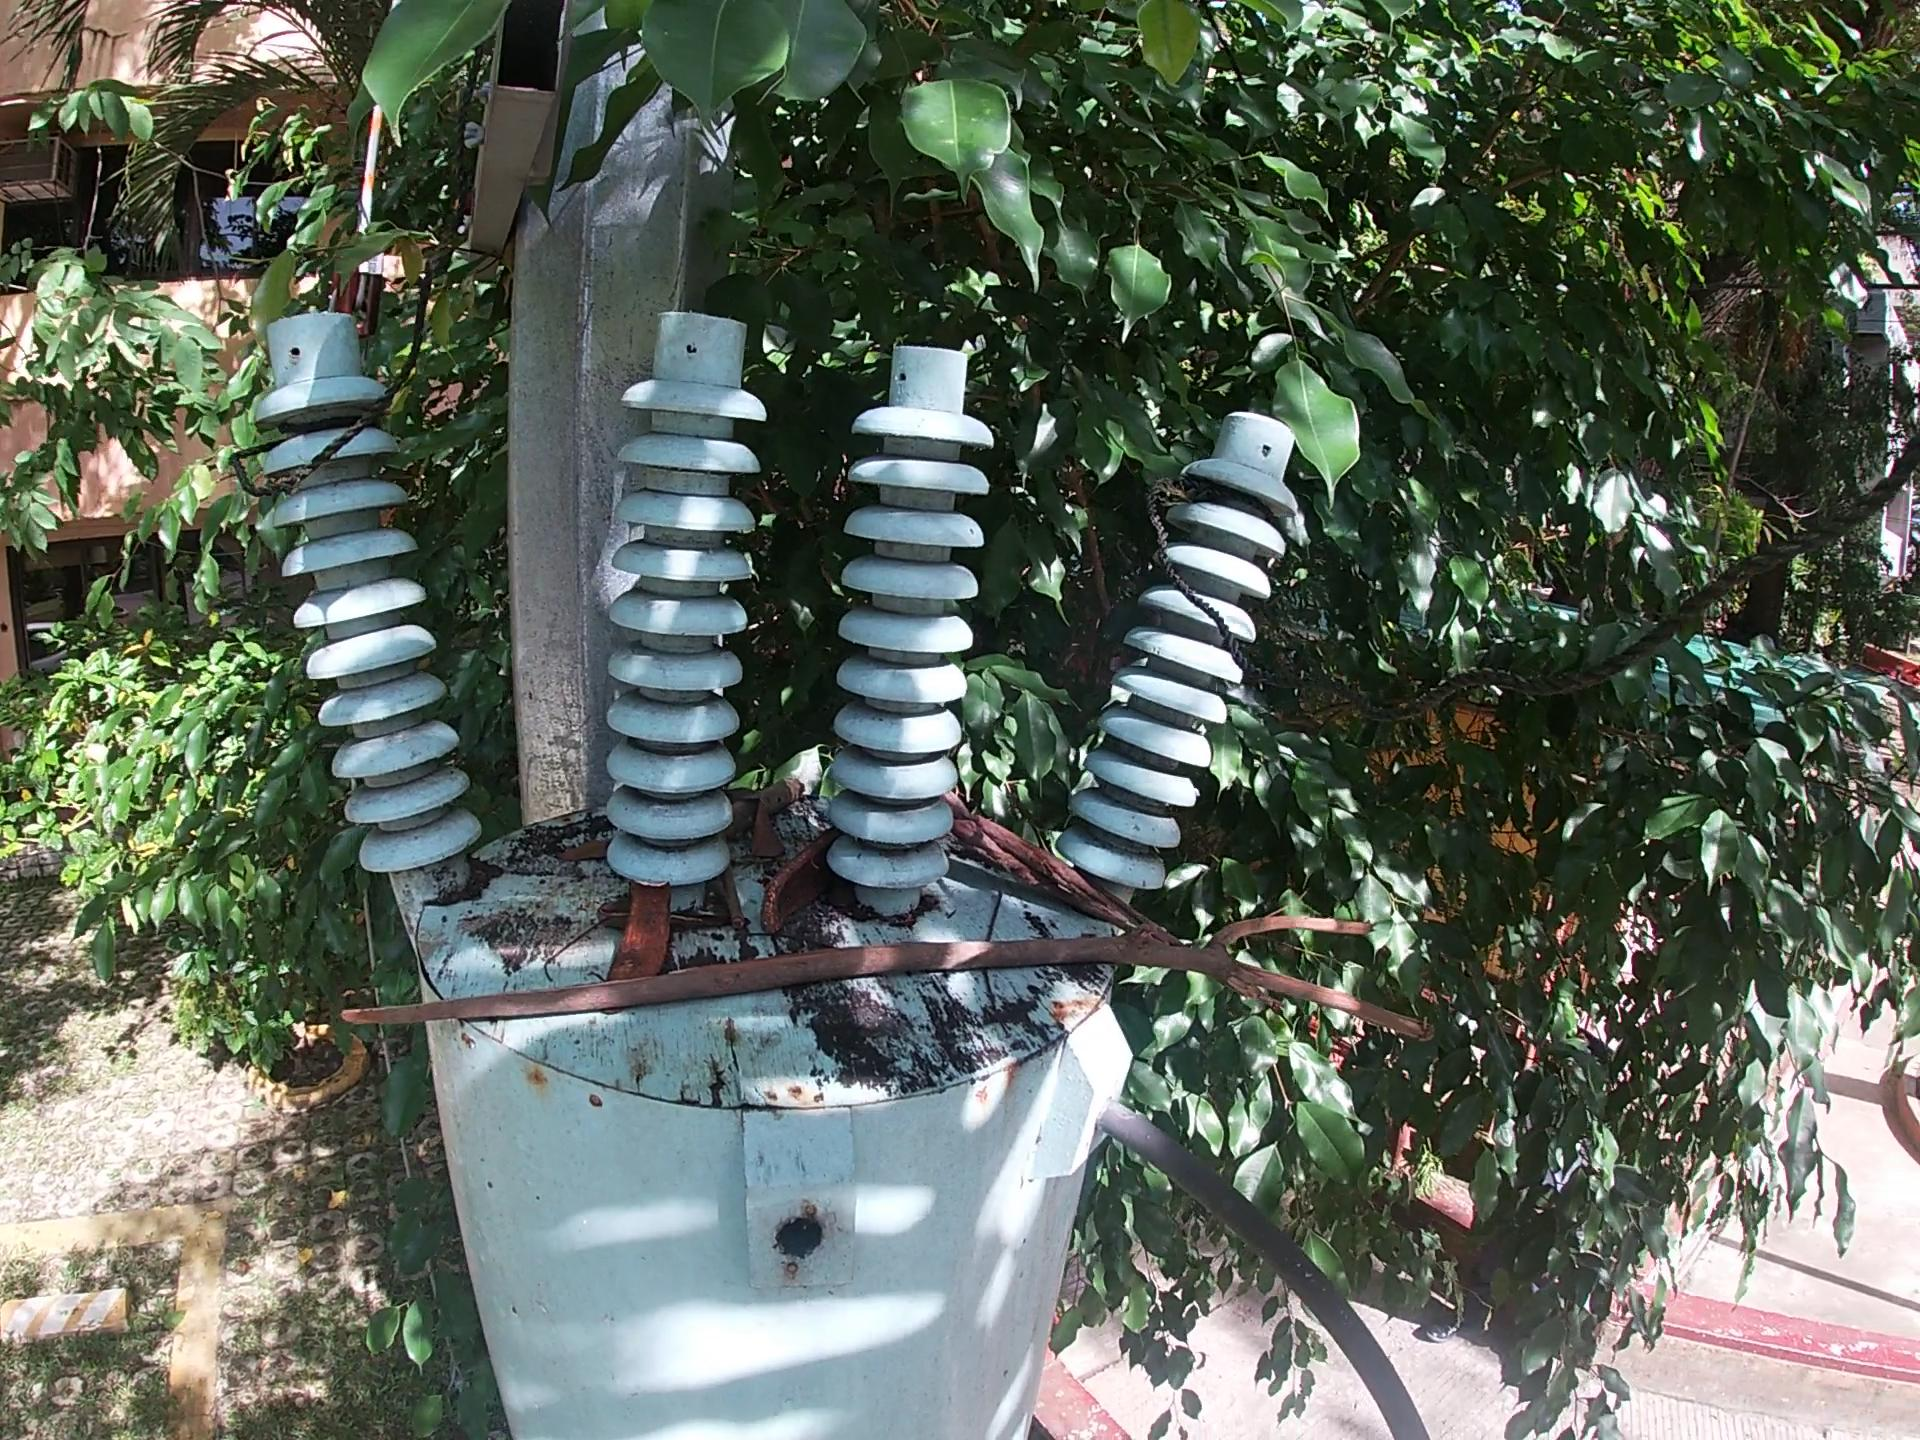leaf: (739, 787, 788, 879), (550, 833, 621, 867), (600, 895, 630, 936)
mahogany fruit: (754, 827, 853, 939), (599, 870, 688, 988)
tree branch: (331, 903, 1441, 1056), (943, 779, 1276, 1007), (724, 774, 809, 836), (717, 865, 748, 936)
